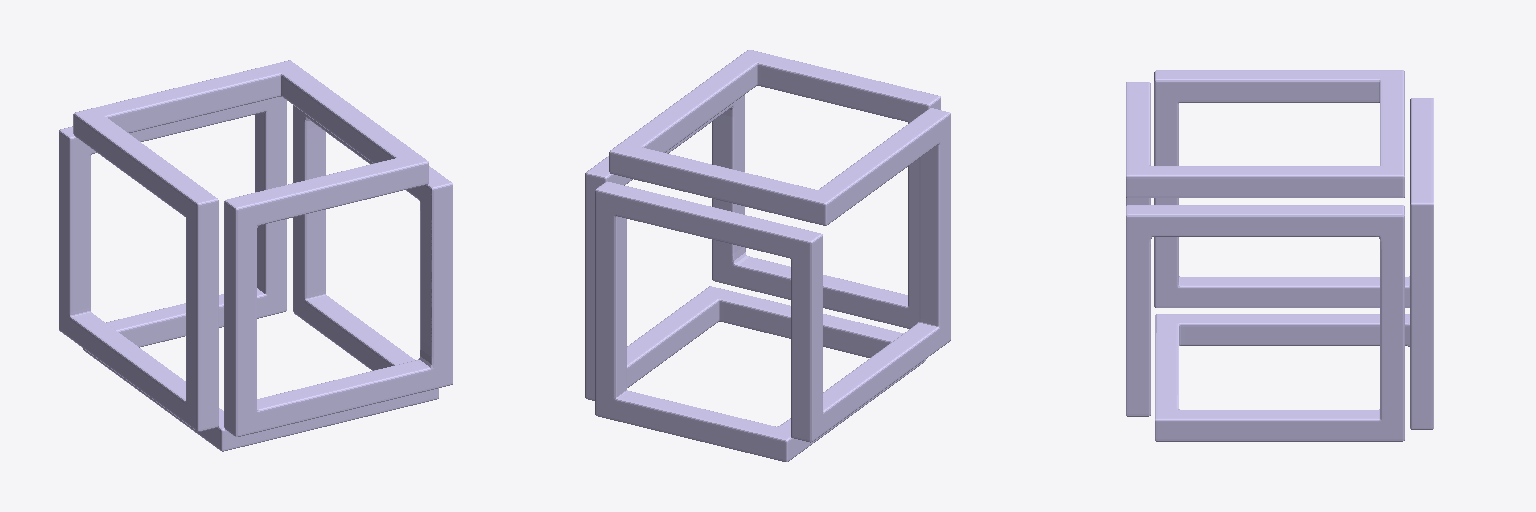
File: OneLineCube.obj
3 renders of one model, left to right at view 1: azimuth 30°, elevation 25°; view 2: azimuth 150°, elevation 25°; view 3: azimuth 270°, elevation 25°, orthographic.
Visible parts, largest first — view 1: Cube; view 2: Cube; view 3: Cube.
Part boxes in pixels (left/top/right/bottom): Cube: left=59, top=60, right=452, bottom=451; Cube: left=585, top=50, right=950, bottom=461; Cube: left=1126, top=70, right=1433, bottom=441.
Size of the model in its own units: 22.13 by 22.29 by 24.46.